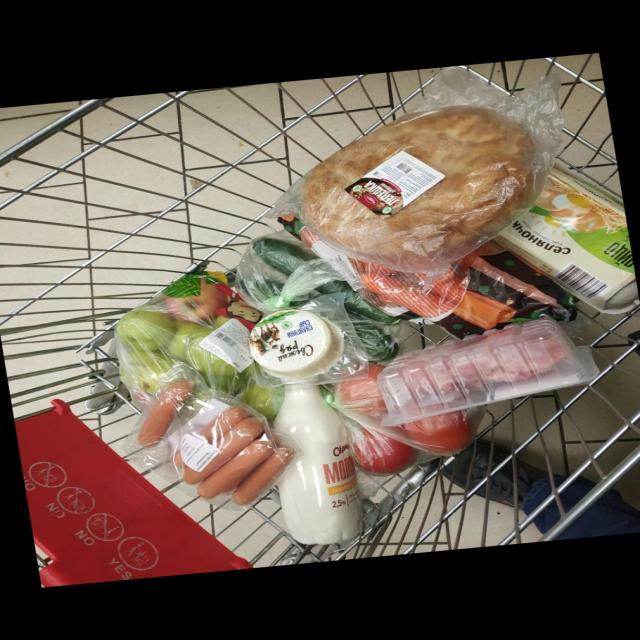Apple: (165, 280, 227, 324), (114, 310, 175, 351), (118, 350, 173, 395), (167, 319, 211, 361), (186, 343, 236, 377), (239, 380, 284, 417), (205, 372, 247, 395), (212, 316, 228, 328)
Bread: (298, 106, 534, 273)
Carrot: (360, 274, 453, 319), (429, 269, 467, 303)
Cheese: (247, 309, 343, 379)
Cucumber: (315, 280, 398, 325), (249, 237, 315, 275), (351, 315, 398, 361), (235, 275, 281, 302), (290, 291, 319, 307)
Eggs: (496, 168, 639, 314)
Meat: (377, 318, 598, 426)
Milk: (272, 385, 362, 544)
Sausages: (123, 363, 294, 510)
Tomatoes: (400, 410, 475, 454), (351, 427, 416, 476), (334, 364, 384, 412)
